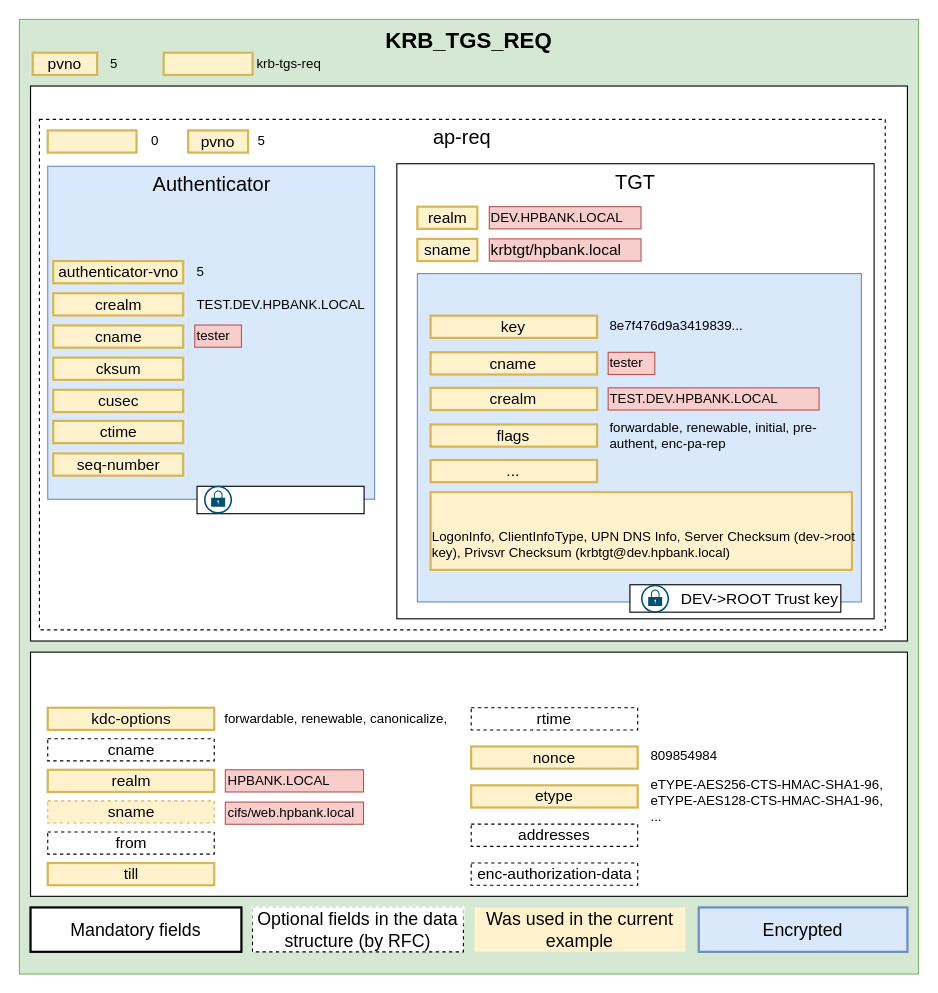
Image size: 938x993. Some labels were removed from this diagram. The shapes that lost their labels are listed below. From the top down, each one's box as (x1, y1, x2, y2) in pixels, then its label:
(162, 51, 253, 75): msg-type
(46, 129, 137, 153): ap-options
(29, 85, 907, 641): PADATA
(416, 273, 861, 602): enc-part
(196, 485, 364, 514): tester session key
(429, 491, 852, 570): PAC (tester)
(29, 651, 907, 896): KDC-REQ-BODY
